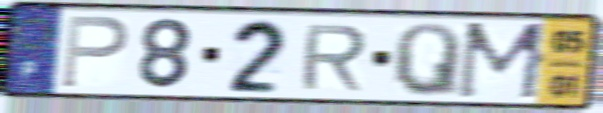2: (223, 14, 292, 97)
8: (137, 16, 195, 91)
M: (452, 20, 552, 103)
P: (58, 13, 132, 91)
Q: (391, 21, 463, 100)
R: (297, 23, 371, 93)
